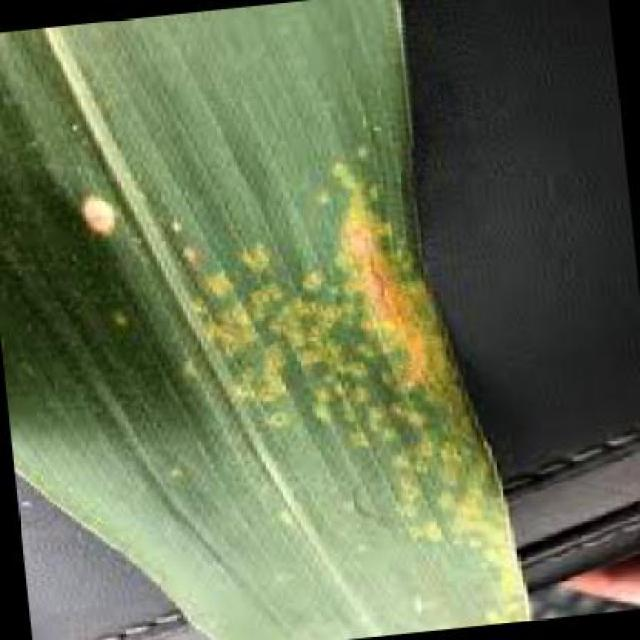Corn_Rust: (169, 155, 509, 560)
